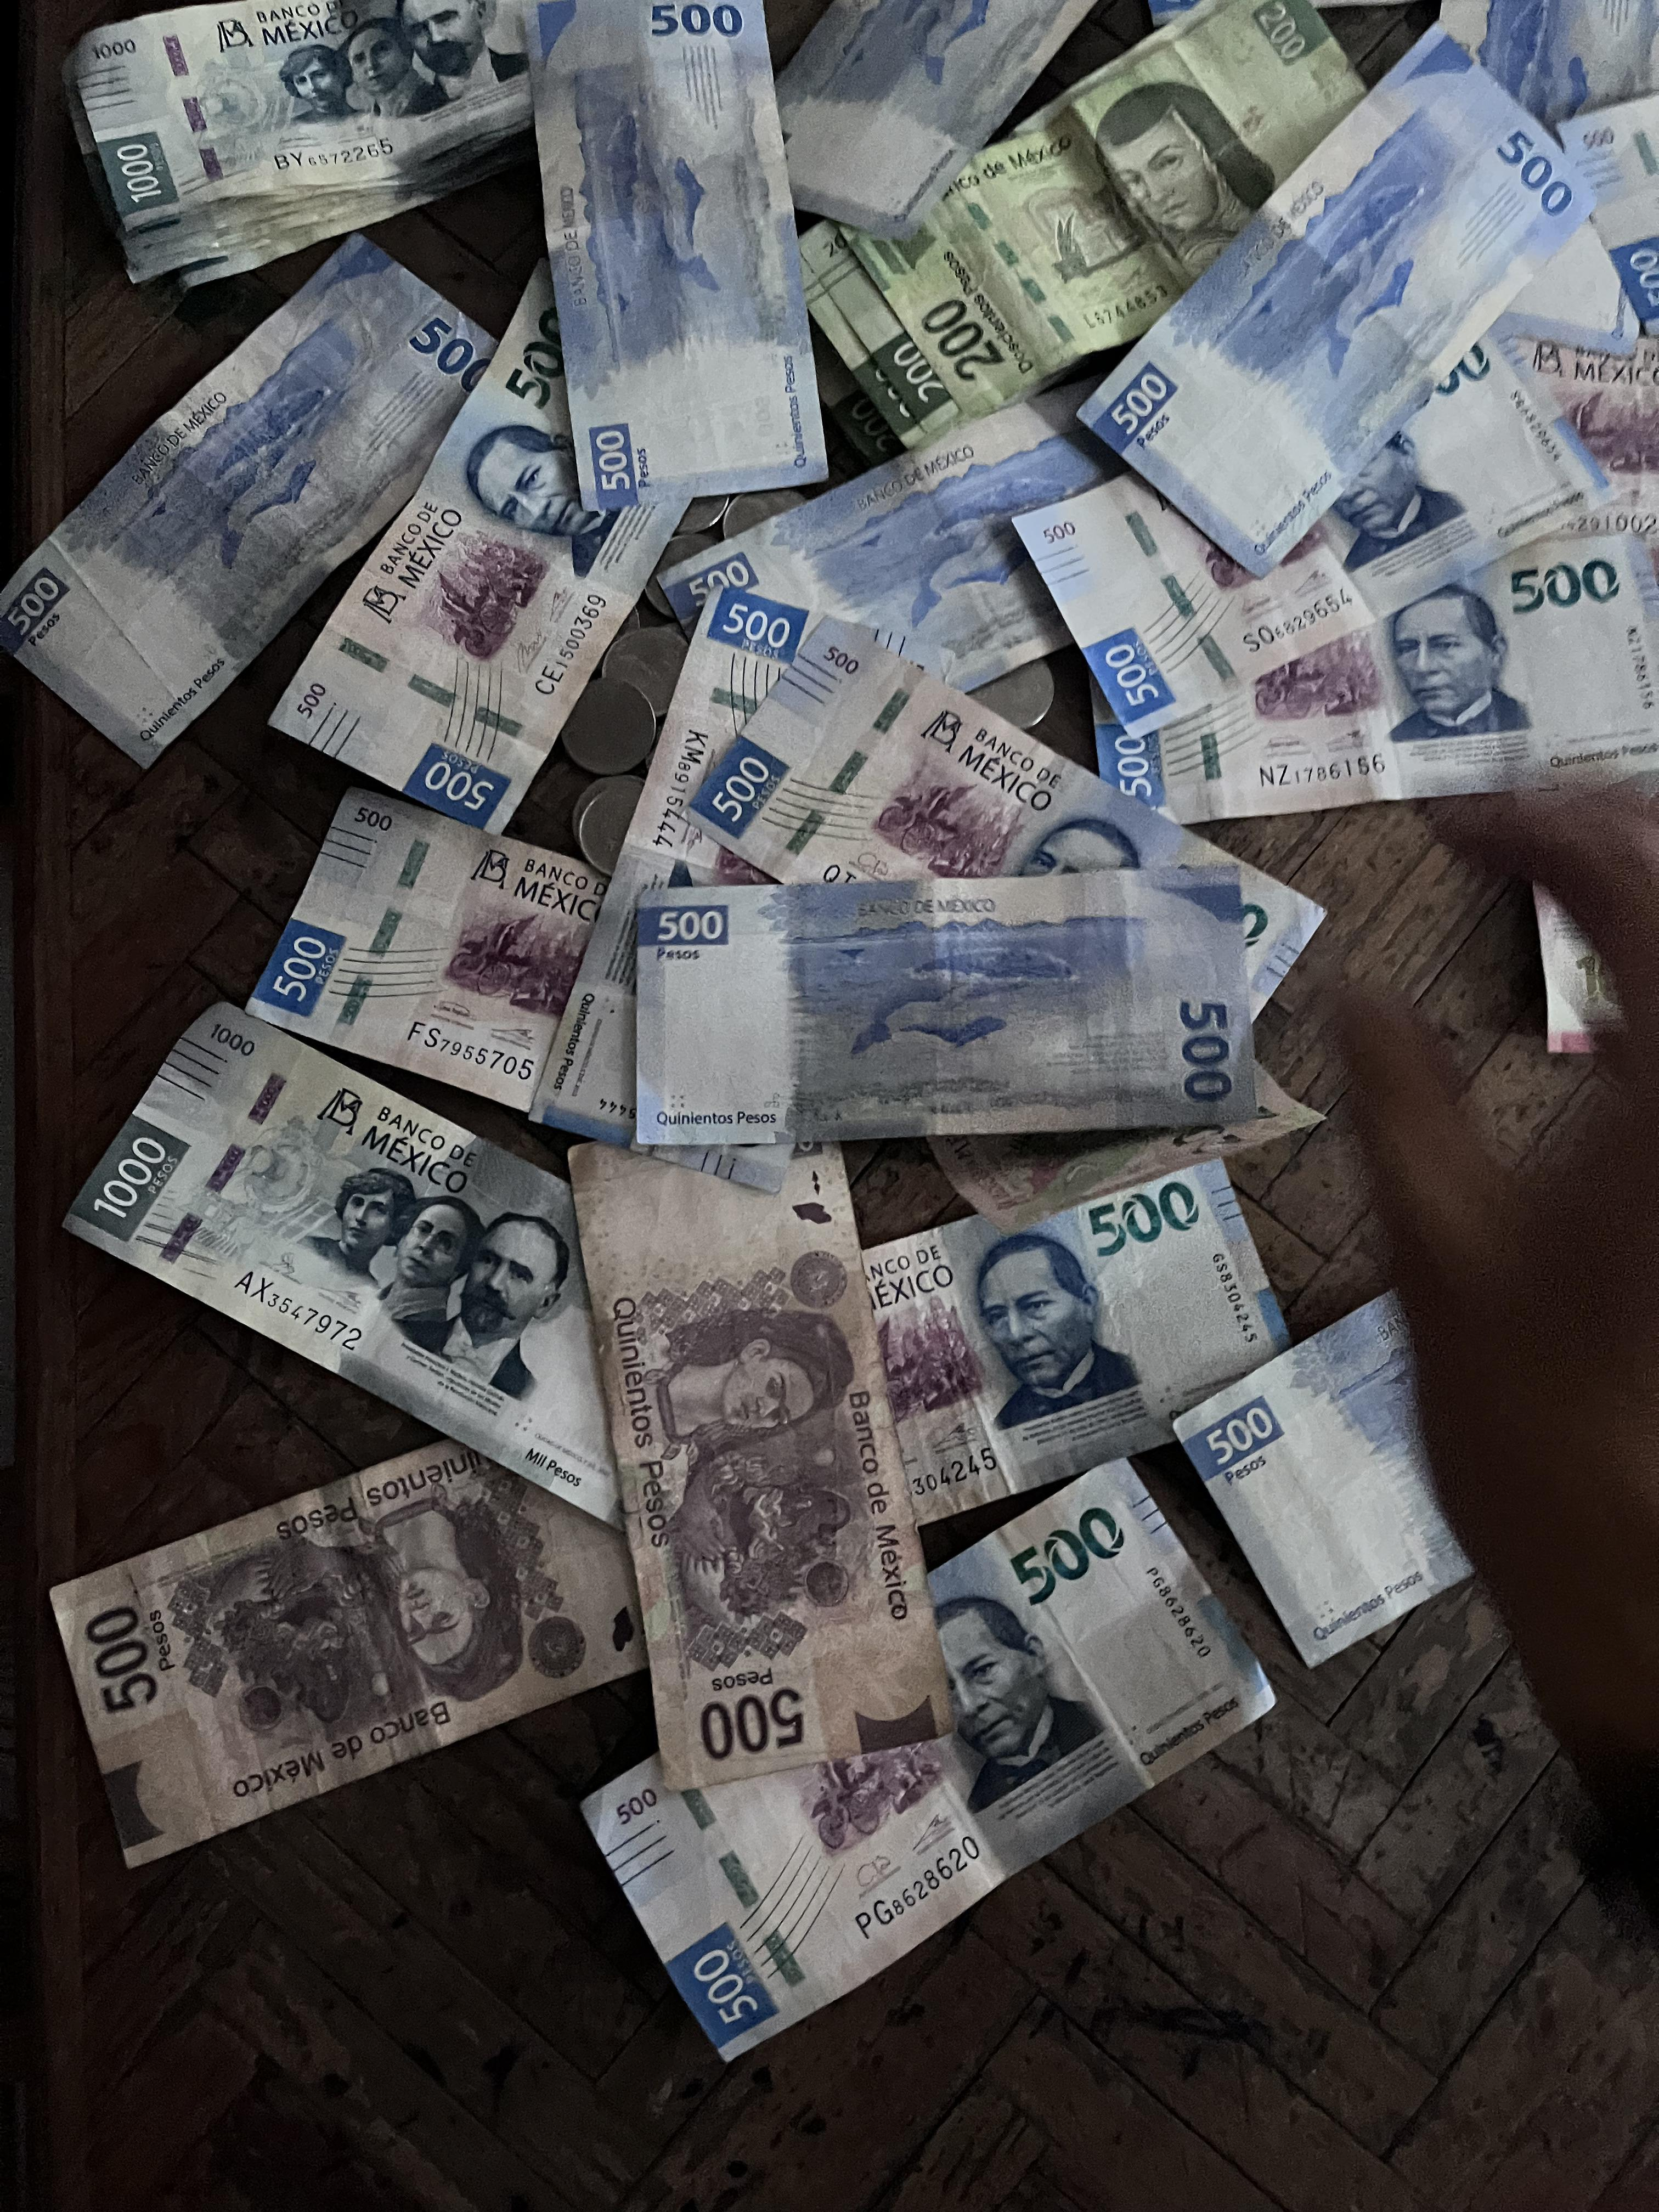1000: (25, 968, 715, 1547), (34, 0, 628, 310)
200: (828, 0, 1346, 431)
500: (38, 1415, 701, 1897), (565, 1122, 966, 1782)
500 nuevo: (582, 1455, 1281, 2093), (5, 206, 510, 790), (1104, 15, 1599, 601), (318, 222, 706, 819), (601, 845, 1283, 1172), (628, 362, 1224, 736), (623, 1185, 1340, 1482), (500, 0, 877, 496), (1092, 526, 1659, 842), (1155, 1245, 1528, 1713)
Billete 500 Nuevo Frente: (241, 752, 600, 1132)
